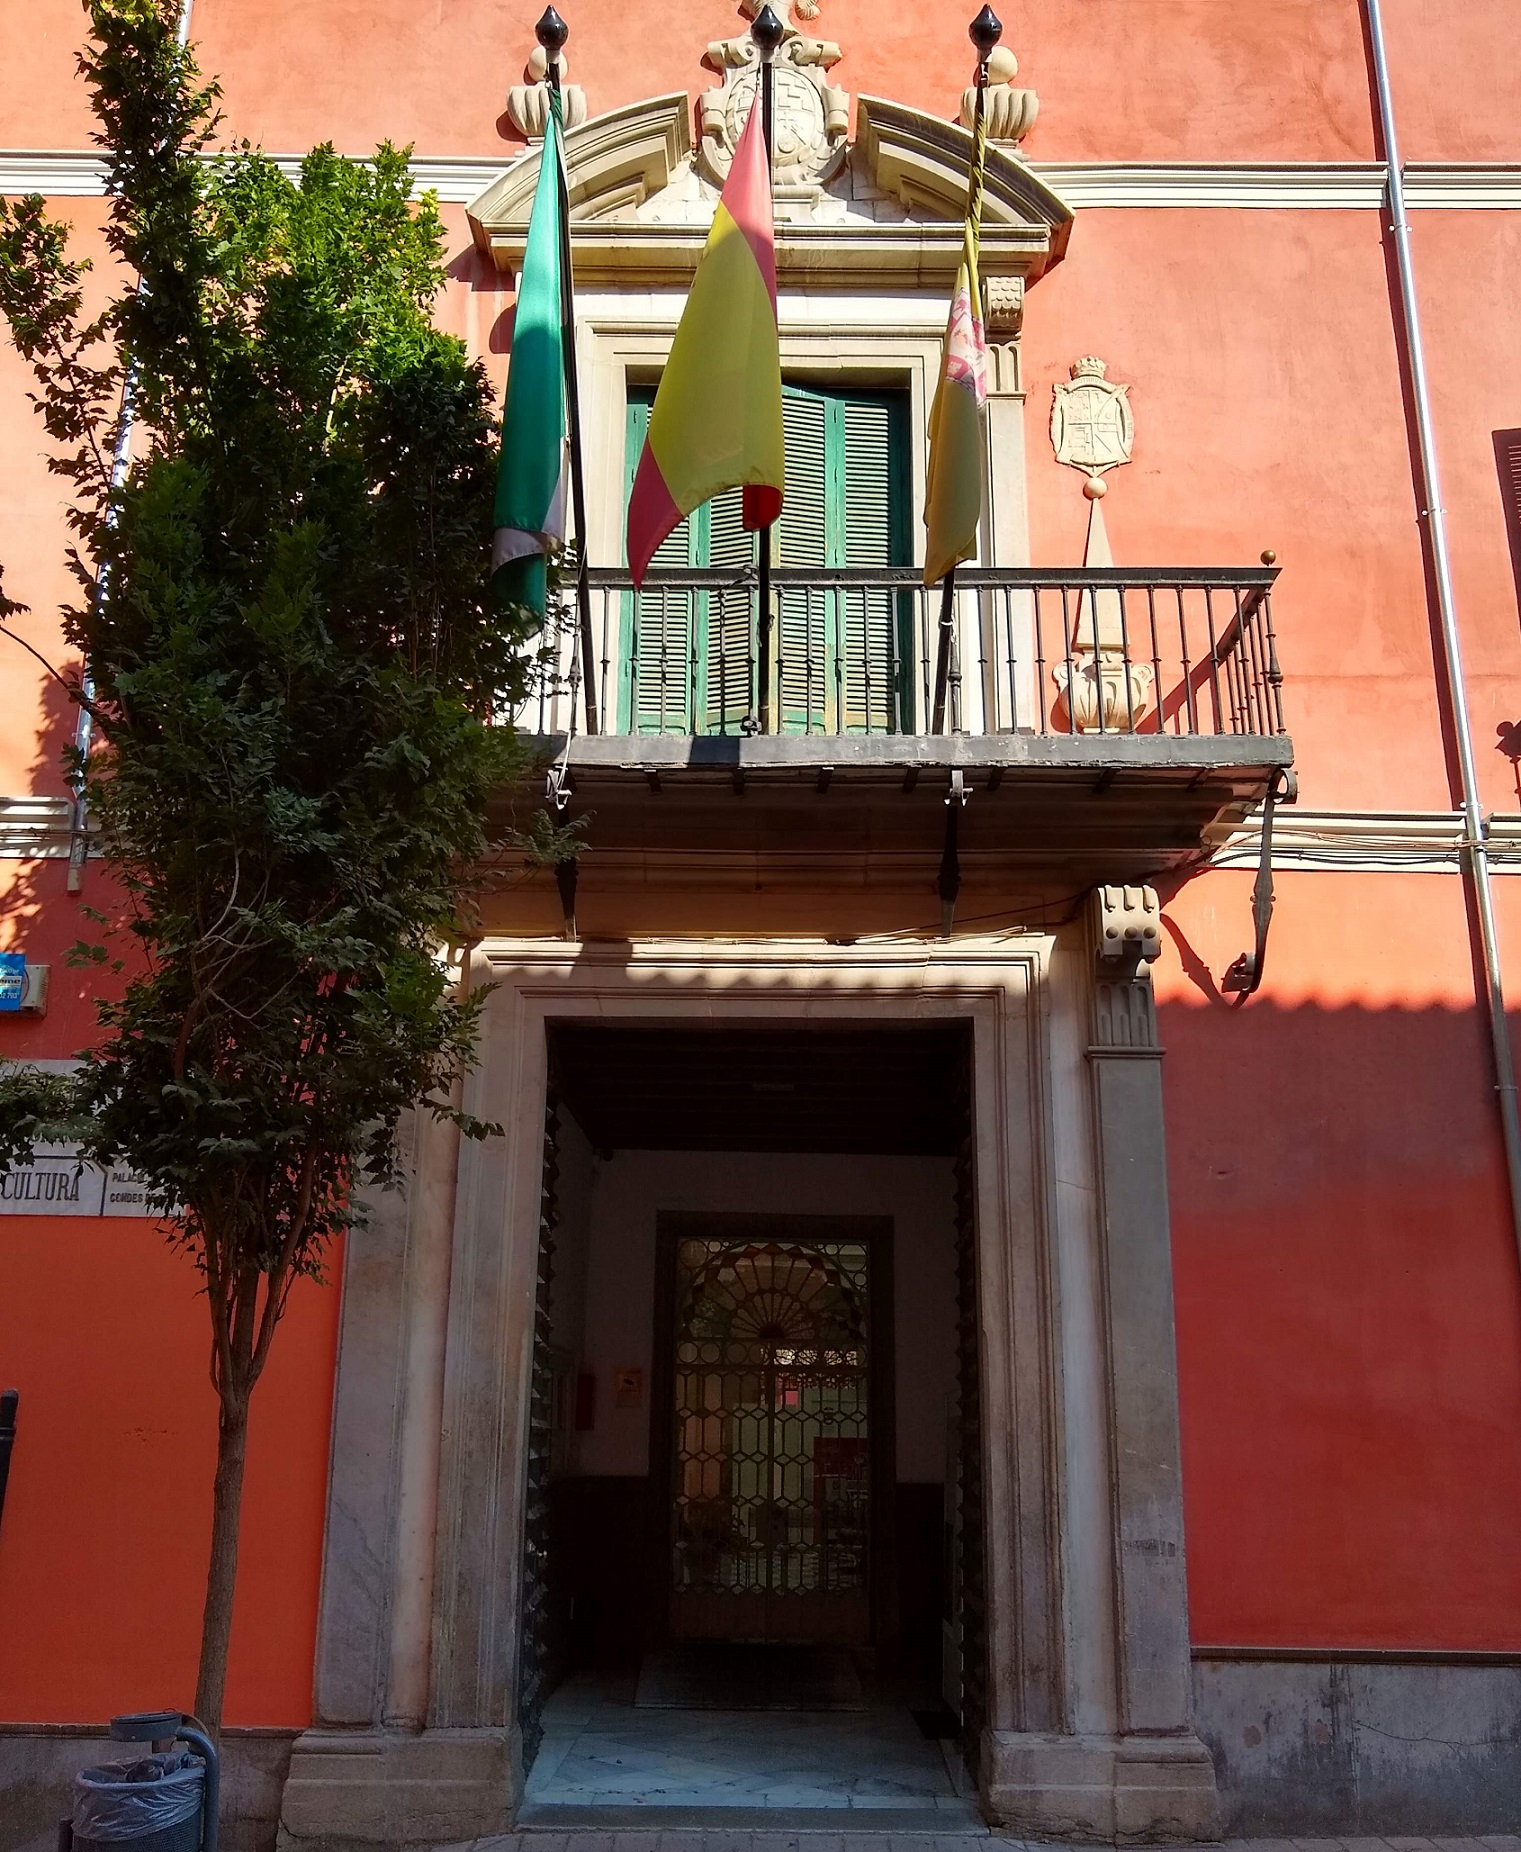fronton-curvo: (472, 82, 1084, 277)
vano-adintelado: (472, 944, 1041, 1834), (584, 315, 944, 743)
